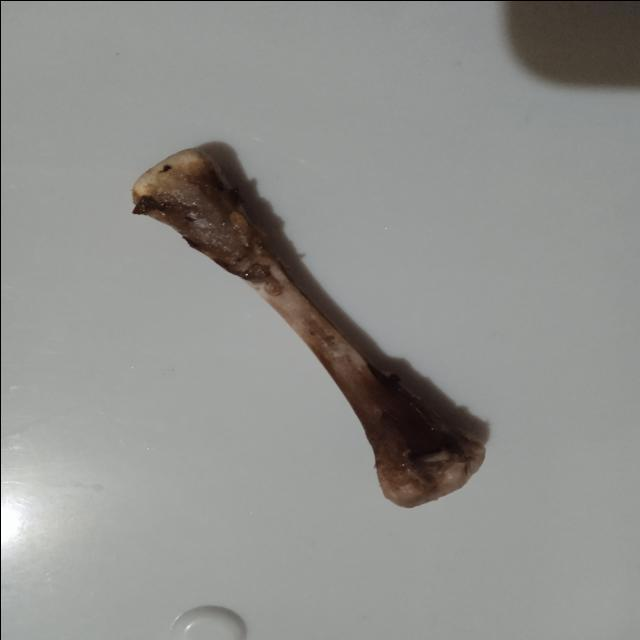bone: (120, 139, 492, 516)
